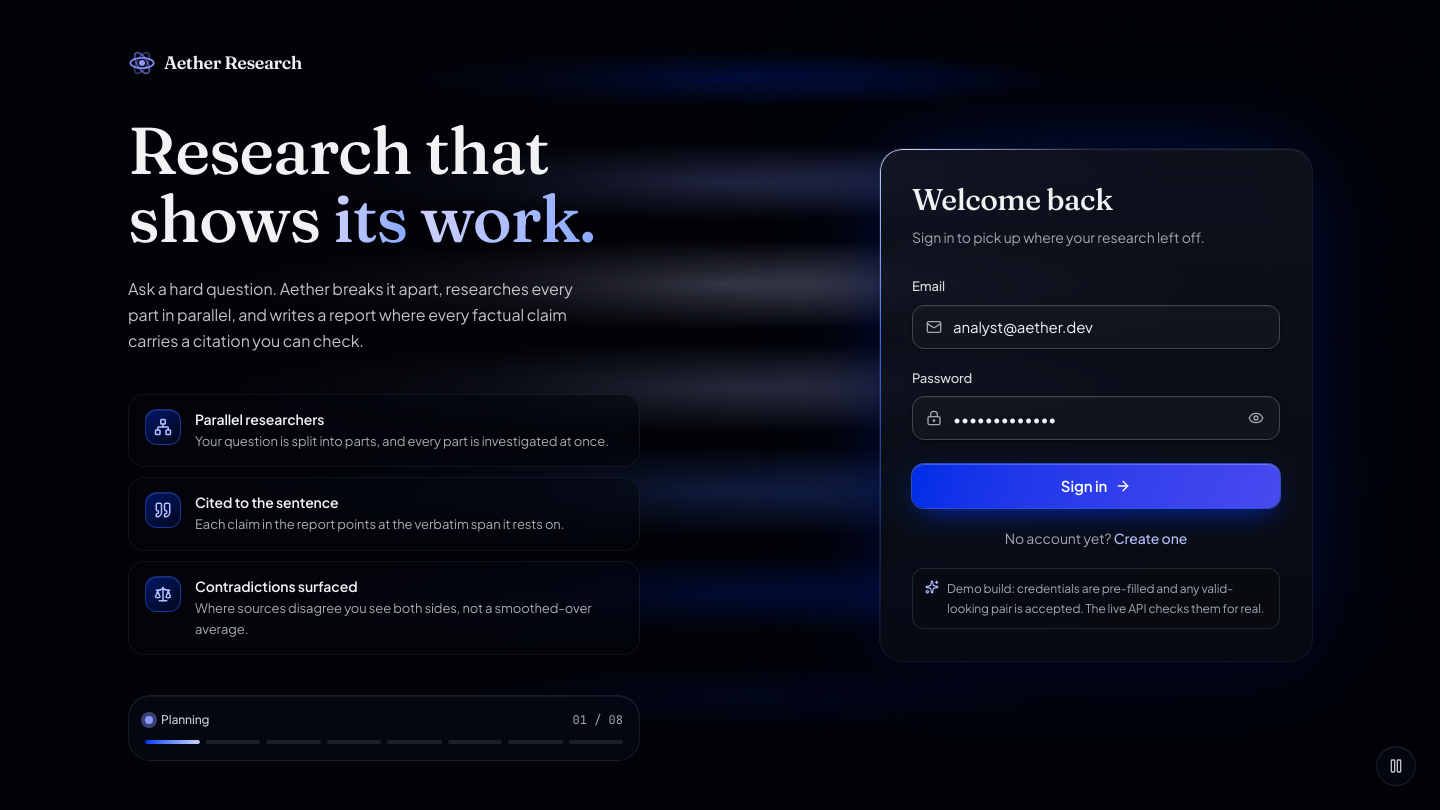
Test: LoginPage › offers to resend the link when the password is right but the address is unconfirmed
The width and height of the screenshot is (1440, 810).
Step 1. Click the button with test id "login-submit" → coordinates (1096, 486), box [912, 464, 1280, 508]
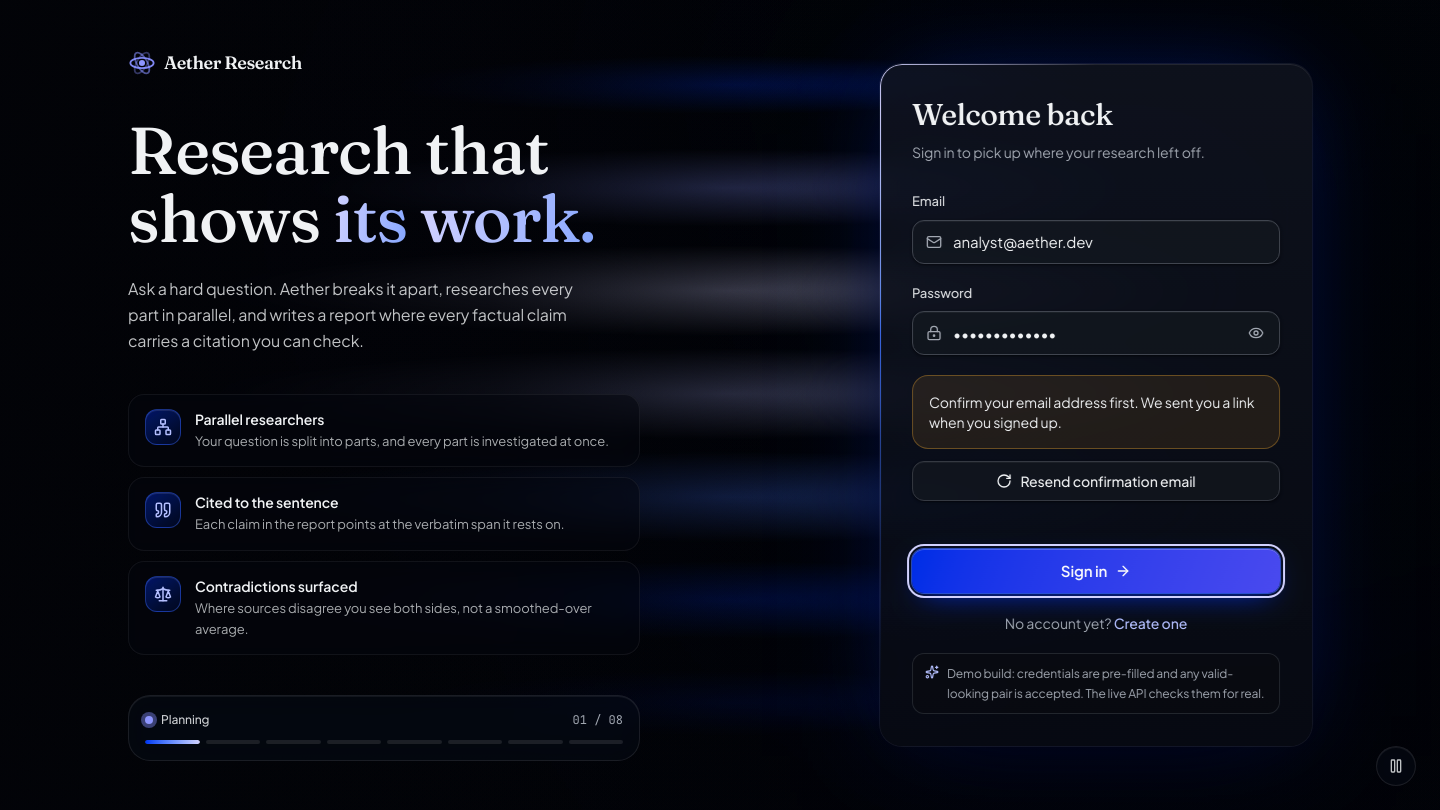
Now the element with test id "email-not-confirmed" shows "Confirm your email address first", box [929, 393, 1254, 431]
Step 2. Click the button with test id "resend-confirmation" → coordinates (1096, 481), box [912, 461, 1280, 501]
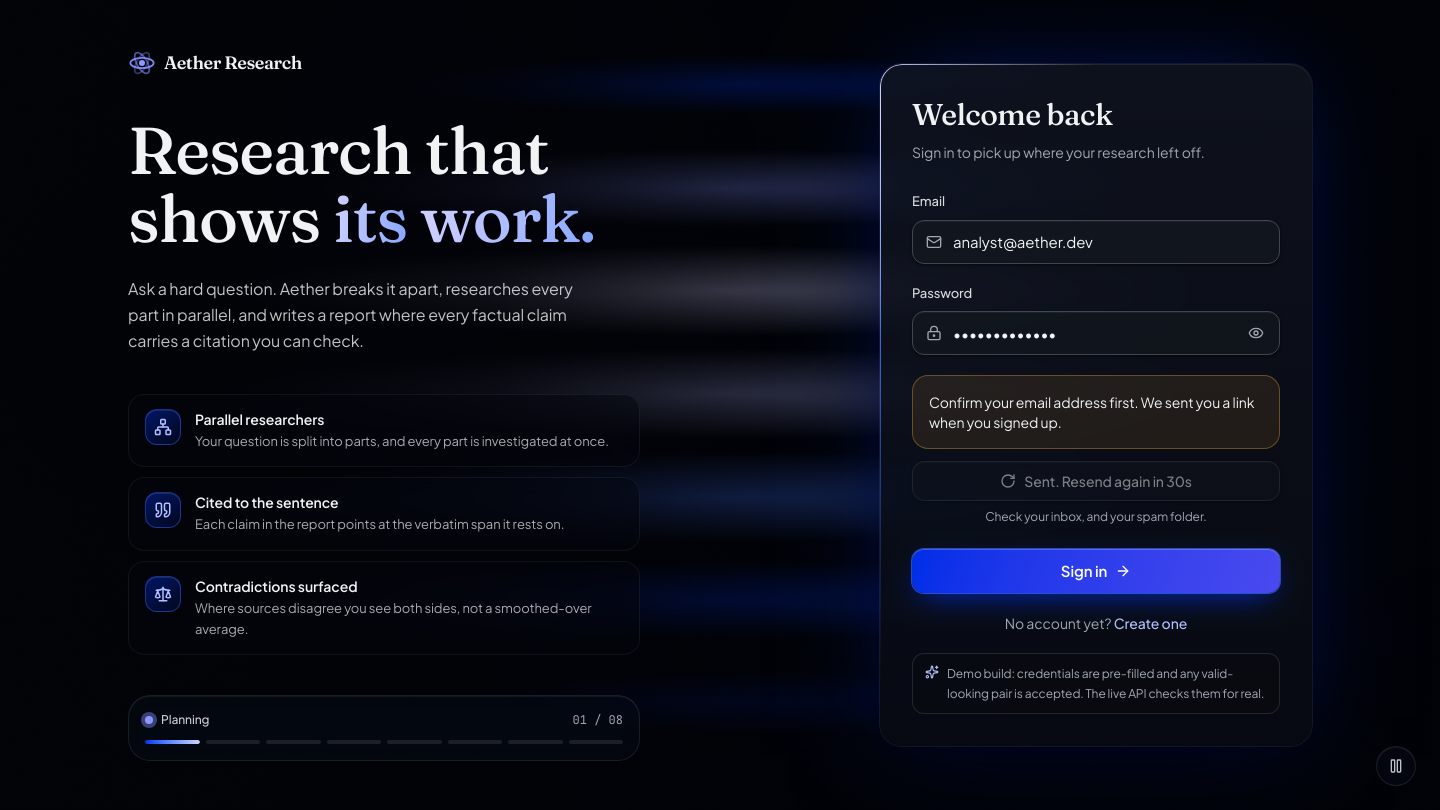
Now the text "Check your inbox, and your spam folder." is shown, box [985, 509, 1207, 524]
